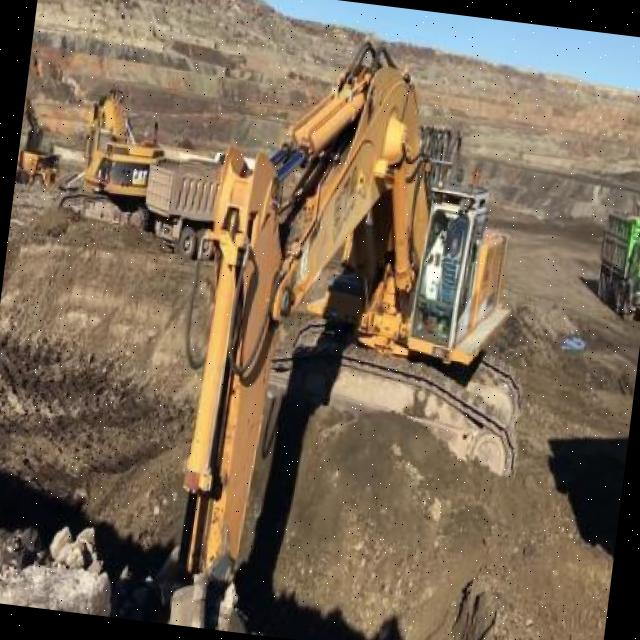Dump Truck: (141, 144, 232, 258), (593, 205, 640, 318), (15, 136, 58, 192)
Excavator: (147, 34, 558, 640), (57, 85, 164, 233), (14, 96, 56, 193)
